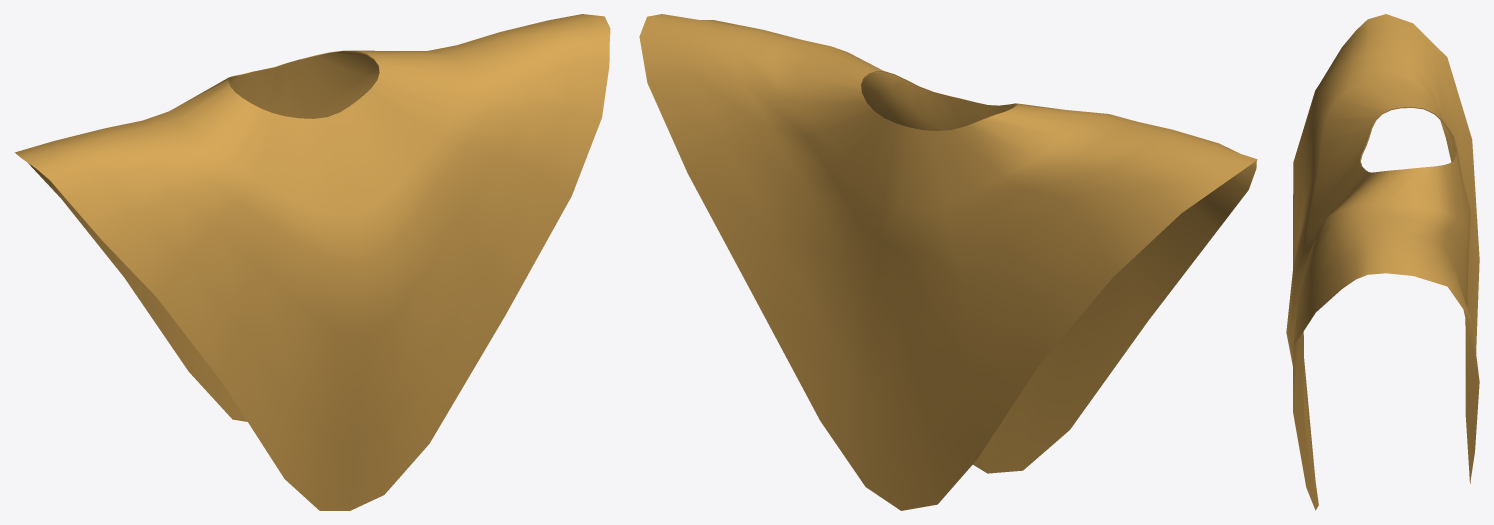
File: cape_tpose.fbx
The picture shows the model from 3 angles, left to right: view 1: azimuth 30°, elevation 25°; view 2: azimuth 150°, elevation 25°; view 3: azimuth 270°, elevation 25°; orthographic projection. The views are drawn at different scales.
Parts seen in each view (by area): view 1: Cape; view 2: Cape; view 3: Cape.
Part boxes in pixels (x1,y1,x2,y2): Cape: [14, 14, 610, 510]; Cape: [639, 14, 1257, 510]; Cape: [1286, 14, 1479, 510].
Size of the model in its own units: 11.96 by 7.91 by 3.77.
